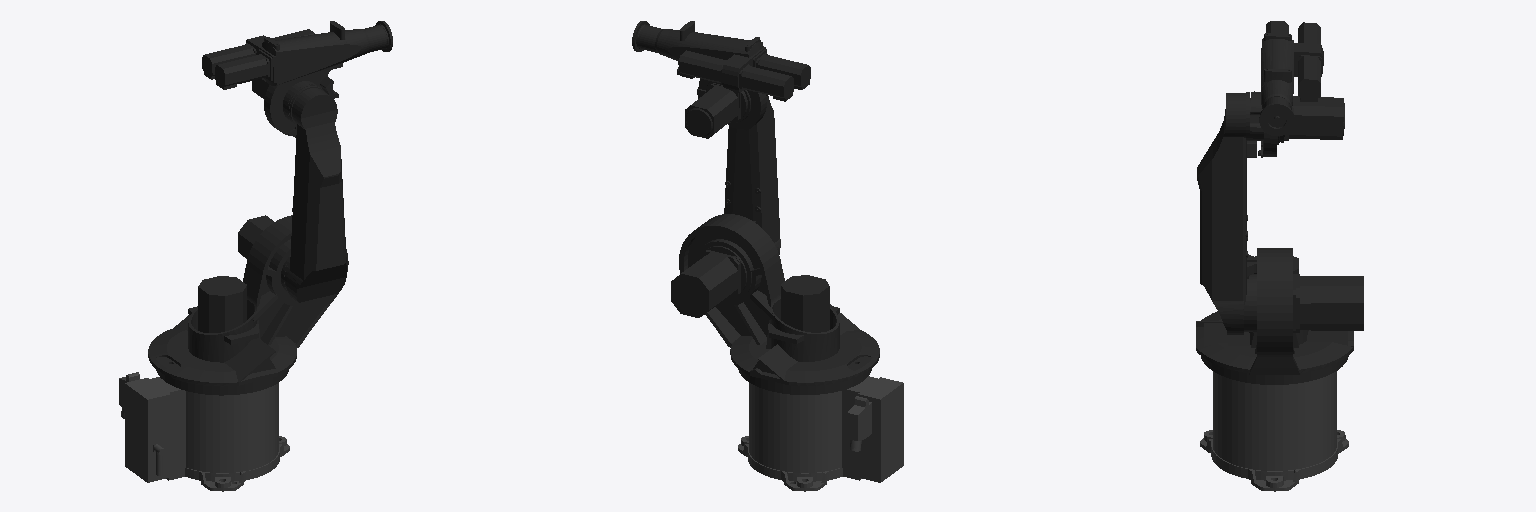
robot.urdf — kuka_kr6:
<?xml version="1.0" ?>
<!-- =================================================================================== -->
<!-- |    This document was autogenerated by xacro from kuka_kr6.urdf.xacro            | -->
<!-- |    EDITING THIS FILE BY HAND IS NOT RECOMMENDED                                 | -->
<!-- =================================================================================== -->
<robot name="kuka_kr6" xmlns:xacro="http://www.ros.org/wiki/xacro">
  <!-- Parameters -->
  <!-- Constants -->
  <!-- Dynamics -->
  <!-- Friccion -->
  <!-- Inertial cuboid element -->
  <!-- Same def that box primitive (center) -->
  <!-- Same def that box primitive -->
  <!-- Inertial sphere element -->
  <!-- Inertial cylinder element -->
  <!-- Axis along z (length) -->
  <!-- Inertial dummy element -->
  <!-- URDF Materials -->
  <material name="Grey1">
    <color rgba="0.1 0.1 0.1 1"/>
  </material>
  <material name="Grey2">
    <color rgba="0.2 0.2 0.2 1"/>
  </material>
  <material name="Grey3">
    <color rgba="0.3 0.3 0.3 1"/>
  </material>
  <material name="KUKA_Orange">
    <color rgba="0.2 0.2 0.2 1"/>
  </material>
  <!-- Gazebo macros -->
  <!-- ROS Control -->
  <gazebo>
    <plugin filename="libgazebo_ros_control.so" name="ros_control">
      <robotNamespace>/lhd</robotNamespace>
    </plugin>
  </gazebo>
  <!-- For Effort controllers -->
  <!-- For Position controllers -->
  <!-- No gravity links -->
  <!-- Normal links -->
  <!-- Wheel links -->
  <!-- Gripper links -->
  <!-- Depth camera plugin -->
  <!-- Base wheels plugin -->
  <!-- Hokuyo plugin -->
  <!-- KUKA KR6 -->
  <!-- KUKA Main -->
  <!-- Joint limits -->
  <!-- Effort -->
  <!-- Joint velocity -->
  <!-- **************************************** -->
  <!-- Base link -->
  <link name="base_link">
    <visual>
      <origin rpy="0 0 0" xyz="0 0 0"/>
      <geometry>
        <mesh filename="package://kuka_description/meshes/visual/base_link.stl"/>
      </geometry>
      <material name="Grey3"/>
    </visual>
    <collision>
      <origin rpy="0 0 0" xyz="0 0 0"/>
      <geometry>
        <mesh filename="package://kuka_description/meshes/visual/base_link.stl"/>
      </geometry>
    </collision>
  </link>
  <!-- **************************************** -->
  <!-- A1 -->
  <!-- Joint A1 -->
  <joint name="joint_a1" type="revolute">
    <origin rpy="0 0 0" xyz="0 0 0.35"/>
    <parent link="base_link"/>
    <child link="link_1"/>
    <axis xyz="0 0 -1"/>
    <limit effort="80" lower="-3.14159265359" upper="3.14159265359" velocity="2.72271363311"/>
  </joint>
  <!-- Link 1 -->
  <link name="link_1">
    <inertial>
      <origin rpy="0 0 0" xyz="0 0 0"/>
      <mass value="2.0"/>
      <inertia ixx="0.2" ixy="0.0" ixz="0.0" iyy="0.2" iyz="0.0" izz="0.2"/>
    </inertial>
    <visual>
      <origin rpy="0 0 0" xyz="0 0 0"/>
      <geometry>
        <mesh filename="package://kuka_description/meshes/visual/link_1.stl"/>
      </geometry>
      <material name="KUKA_Orange"/>
    </visual>
    <collision>
      <origin rpy="0 0 0" xyz="0 0 0"/>
      <geometry>
        <mesh filename="package://kuka_description/meshes/visual/link_1.stl"/>
      </geometry>
    </collision>
  </link>
  <!-- **************************************** -->
  <!-- A2 -->
  <!-- Joint A2 -->
  <joint name="joint_a2" type="revolute">
    <origin rpy="0 0 0" xyz="0.3 -0.068 0.315"/>
    <parent link="link_1"/>
    <child link="link_2"/>
    <axis xyz="0 1 0"/>
    <!-- Offset de -90 -->
    <limit effort="80" lower="-0.698131700798" upper="1.2217304764" velocity="2.72271363311"/>
  </joint>
  <!-- Link 2-->
  <link name="link_2">
    <inertial>
      <origin rpy="0 0 0" xyz="0 0 0"/>
      <mass value="2.0"/>
      <inertia ixx="0.2" ixy="0.0" ixz="0.0" iyy="0.2" iyz="0.0" izz="0.2"/>
    </inertial>
    <visual>
      <origin rpy="0 0 0" xyz="0 0 0"/>
      <geometry>
        <mesh filename="package://kuka_description/meshes/visual/link_2.stl"/>
      </geometry>
      <material name="KUKA_Orange"/>
    </visual>
    <collision>
      <origin rpy="0 0 0" xyz="0 0 0"/>
      <geometry>
        <mesh filename="package://kuka_description/meshes/visual/link_2.stl"/>
      </geometry>
    </collision>
  </link>
  <!-- **************************************** -->
  <!-- A3 -->
  <!-- Joint A3 -->
  <joint name="joint a3" type="revolute">
    <origin rpy="0 0 0" xyz="0 -0.011 0.65"/>
    <parent link="link_2"/>
    <child link="link_3"/>
    <axis xyz="0 0.99939 -0.034899"/>
    <!-- Offset +90 -->
    <limit effort="80" lower="-3.57792496659" upper="1.1344640138" velocity="2.72271363311"/>
  </joint>
  <!-- Link 3 -->
  <link name="link_3">
    <inertial>
      <origin rpy="0 0 0" xyz="0 0 0"/>
      <mass value="2.0"/>
      <inertia ixx="0.2" ixy="0.0" ixz="0.0" iyy="0.2" iyz="0.0" izz="0.2"/>
    </inertial>
    <visual>
      <origin rpy="0 0 0" xyz="0 0 0"/>
      <geometry>
        <mesh filename="package://kuka_description/meshes/visual/link_3.stl"/>
      </geometry>
      <material name="KUKA_Orange"/>
    </visual>
    <collision>
      <origin rpy="0 0 0" xyz="0 0 0"/>
      <geometry>
        <mesh filename="package://kuka_description/meshes/visual/link_3.stl"/>
      </geometry>
    </collision>
  </link>
  <!-- **************************************** -->
  <!-- A4 -->
  <!-- Joint A4 -->
  <joint name="joint_a4" type="revolute">
    <origin rpy="0 0 0" xyz="0.358 0.08636 0.15208"/>
    <parent link="link_3"/>
    <child link="link_4"/>
    <axis xyz="-1 0 0"/>
    <limit effort="80" lower="-6.02138591938" upper="6.02138591938" velocity="5.98647933434"/>
  </joint>
  <!-- Link 4 -->
  <link name="link_4">
    <inertial>
      <origin rpy="0 0 0" xyz="0 0 0"/>
      <mass value="2.0"/>
      <inertia ixx="0.2" ixy="0.0" ixz="0.0" iyy="0.2" iyz="0.0" izz="0.2"/>
    </inertial>
    <visual>
      <origin rpy="0 0 0" xyz="0 0 0"/>
      <geometry>
        <mesh filename="package://kuka_description/meshes/visual/link_4.stl"/>
      </geometry>
      <material name="KUKA_Orange"/>
    </visual>
    <collision>
      <origin rpy="0 0 0" xyz="0 0 0"/>
      <geometry>
        <mesh filename="package://kuka_description/meshes/visual/link_4.stl"/>
      </geometry>
    </collision>
  </link>
  <!-- **************************************** -->
  <!-- A5 -->
  <!-- Joint A5 -->
  <joint name="joint_a5" type="revolute">
    <origin rpy="0 0 0" xyz="0.242 0.020238 -0.00070671"/>
    <parent link="link_4"/>
    <child link="link_5"/>
    <axis xyz="0 1 0"/>
    <limit effort="80" lower="-1.91986217719" upper="1.3962634016" velocity="6.31809189222"/>
  </joint>
  <!-- Link 5 -->
  <link name="link_5">
    <inertial>
      <origin rpy="0 0 0" xyz="0 0 0"/>
      <mass value="2.0"/>
      <inertia ixx="0.2" ixy="0.0" ixz="0.0" iyy="0.2" iyz="0.0" izz="0.2"/>
    </inertial>
    <visual>
      <origin rpy="0 0 0" xyz="0 0 0"/>
      <geometry>
        <mesh filename="package://kuka_description/meshes/visual/link_5.stl"/>
      </geometry>
      <material name="KUKA_Orange"/>
    </visual>
    <collision>
      <origin rpy="0 0 0" xyz="0 0 0"/>
      <geometry>
        <mesh filename="package://kuka_description/meshes/visual/link_5.stl"/>
      </geometry>
    </collision>
  </link>
  <!-- **************************************** -->
  <!-- A6 -->
  <!-- Joint A6 -->
  <joint name="joint_a6" type="revolute">
    <origin rpy="0 0 0" xyz="0.1125 -0.02025 0"/>
    <parent link="link_5"/>
    <child link="link_6"/>
    <axis xyz="-1 0 0"/>
    <limit effort="80" lower="-6.02138591938" upper="6.02138591938" velocity="6.31809189222"/>
  </joint>
  <!-- Link 6 -->
  <link name="link_6">
    <inertial>
      <origin rpy="0 0 0" xyz="0 0 0"/>
      <mass value="2.0"/>
      <inertia ixx="0.2" ixy="0.0" ixz="0.0" iyy="0.2" iyz="0.0" izz="0.2"/>
    </inertial>
    <visual>
      <origin rpy="0 0 0" xyz="0 0 0"/>
      <geometry>
        <mesh filename="package://kuka_description/meshes/visual/link_6.stl"/>
      </geometry>
      <material name="Grey1"/>
    </visual>
    <collision>
      <origin rpy="0 0 0" xyz="0 0 0"/>
      <geometry>
        <mesh filename="package://kuka_description/meshes/visual/link_6.stl"/>
      </geometry>
    </collision>
  </link>
</robot>

--- Facts derived from the render (not from the file) ---
The picture shows the robot from 3 angles, left to right: view 1: azimuth 30°, elevation 25°; view 2: azimuth 150°, elevation 25°; view 3: azimuth 270°, elevation 25°; orthographic projection.
Robot: kuka_kr6 — 7 links, 6 joints (6 revolute); root link base_link; default pose: every joint at zero.
Links seen in each view (by area): view 1: link_1, base_link, link_2, link_3; view 2: link_1, base_link, link_3, link_2; view 3: link_1, base_link, link_2, link_3.
Boxes of the visible links, box(x1,y1,x2,y2) form: link_1: box(148, 215, 348, 395); base_link: box(119, 372, 289, 491); link_2: box(284, 86, 346, 308); link_3: box(202, 21, 392, 137); link_1: box(671, 214, 879, 394); base_link: box(738, 376, 903, 491); link_3: box(632, 21, 810, 138); link_2: box(724, 95, 780, 254); link_1: box(1196, 248, 1363, 384); base_link: box(1200, 371, 1348, 491); link_2: box(1197, 92, 1256, 334); link_3: box(1250, 21, 1344, 157).
Bounding box of the posed robot: 1.01 × 0.529 × 1.56 m (x, y, z).
4 mesh visuals loaded from 7 distinct referenced files (4 binary STL); not drawn: 3 (reference not matched to a file when rendering).